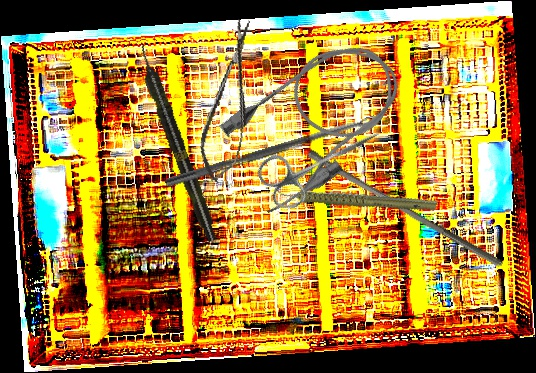Cannula: (208, 22, 423, 222)
Handpiece: (132, 42, 222, 244), (273, 151, 439, 244)
Iris Scissors: (253, 106, 392, 216)
Micro Scissor: (192, 16, 269, 186)
Pusher: (302, 148, 508, 269)
Surgical Spoon: (164, 115, 377, 189)
